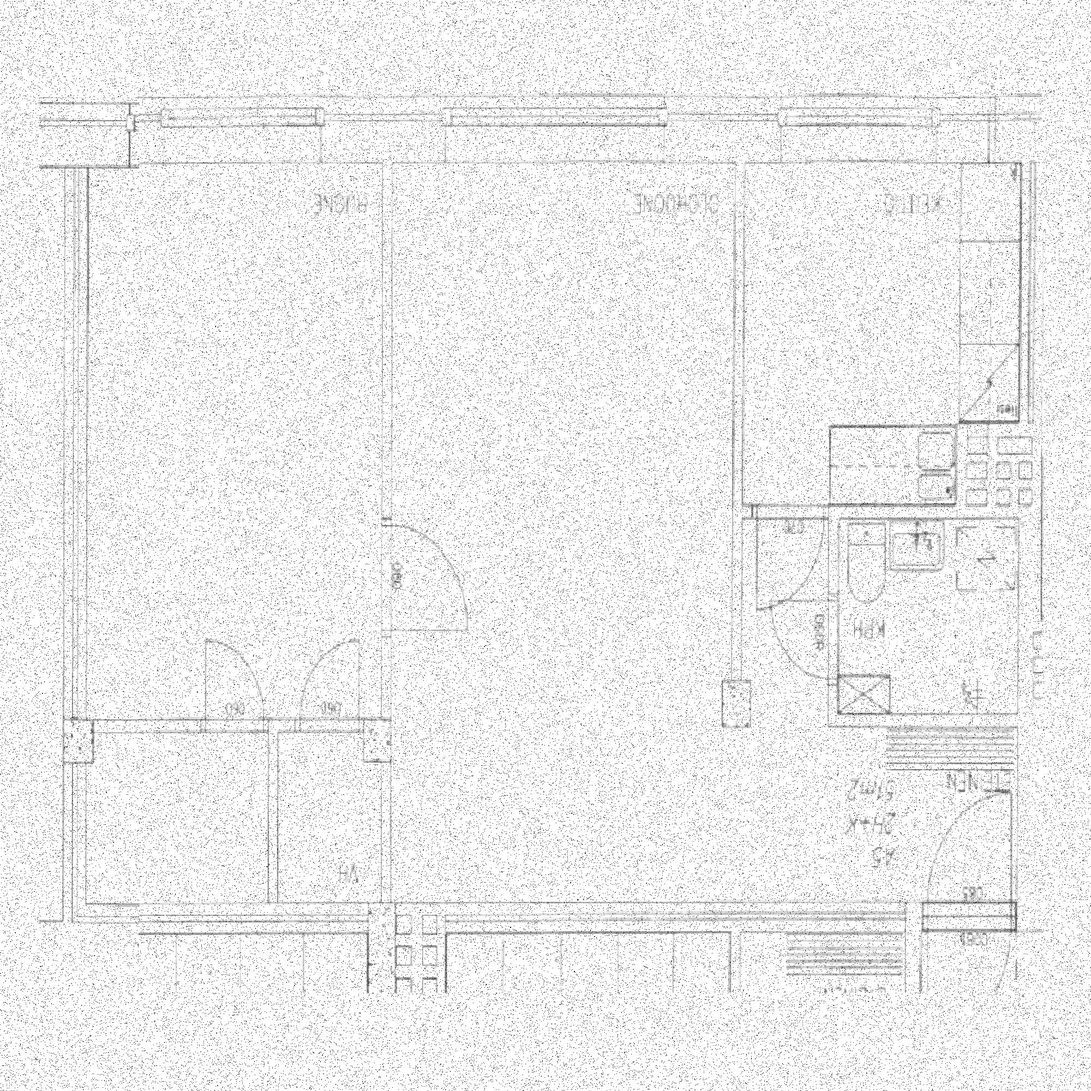wall: (63, 96, 1042, 163), (63, 900, 1042, 931), (1018, 96, 1042, 931), (63, 96, 87, 931), (383, 96, 392, 931), (733, 96, 743, 681), (733, 502, 1042, 519), (63, 719, 392, 733), (828, 713, 1043, 727), (828, 503, 839, 727), (268, 719, 279, 931)
